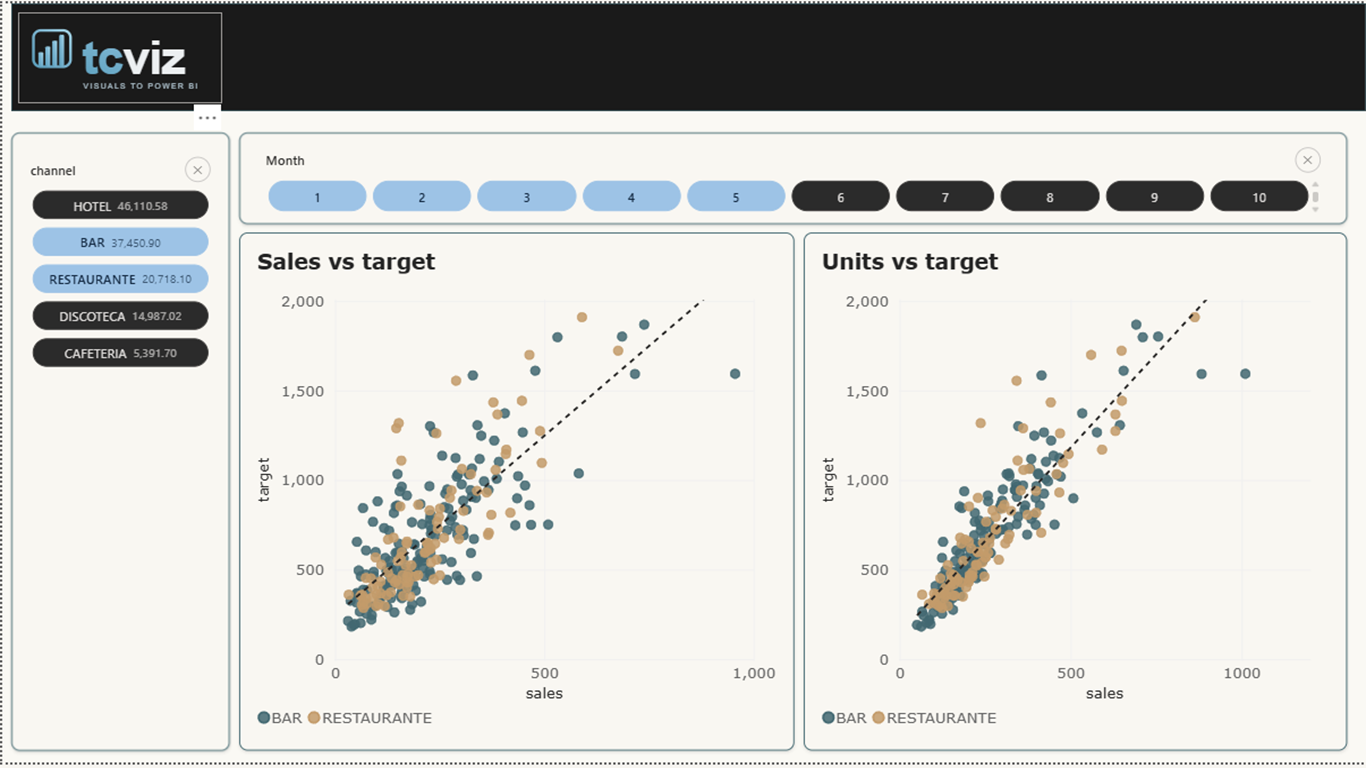

The page's visual inventory and layout, read from the dashboard file:
{"tool":"powerbi","page":{"name":"Slicer","canvas":[1280,720],"ordinal":0},"visuals":[{"type":"image","box":[31.9,12.1,169.3,75.9],"z":1000},{"type":"shape","box":[32.1,68.2,1230.4,47.9],"z":2000},{"type":"scatterChart","title":"Sales vs target","fields":{"Category":["synthetic_horeca_beverage.customer_id"],"Series":["synthetic_horeca_beverage.channel"],"X":["synthetic_horeca_beverage.Total Litros"],"Y":["Sum(synthetic_horeca_beverage.target units)"]},"box":[222.2,227.8,1040.4,466.3],"z":3001},{"type":"chipSlicerFree_test","fields":{"category":["synthetic_horeca_beverage.channel"]},"box":[32.1,227.8,162.4,466.3],"z":3002},{"type":"chipSlicerFree_test","fields":{"category":["synthetic_horeca_beverage.Month"]},"box":[222.4,106.7,1040.2,98.2],"z":3003}]}

Visuals, with their boxes in screenshot pixels (x1, y1, x2, y2), scaled from the page's 1280x720 canvas onto the 1366x768 screenshot:
image: bbox=(34, 13, 215, 94)
shape: bbox=(34, 73, 1347, 124)
"Sales vs target" scatterChart: bbox=(237, 243, 1347, 740)
chipSlicerFree_test - synthetic_horeca_beverage.channel: bbox=(34, 243, 208, 740)
chipSlicerFree_test - synthetic_horeca_beverage.Month: bbox=(237, 114, 1347, 219)
